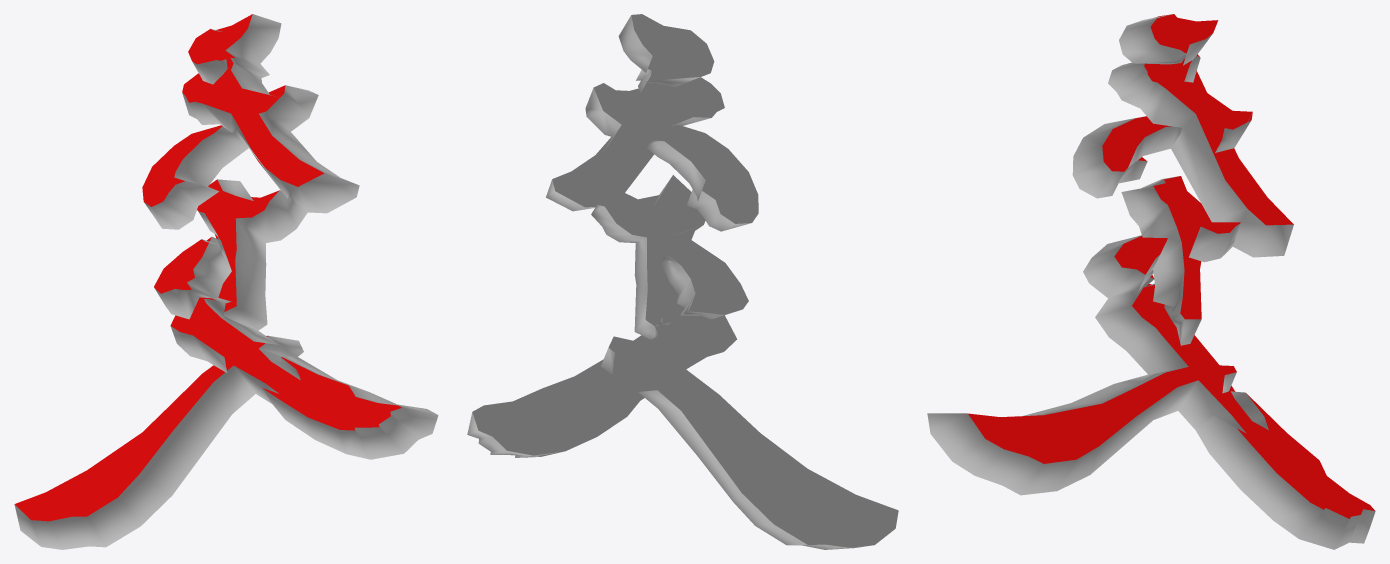
The model's file is ps2_save-icons_tenkabito.glb.
3 renders of one model, left to right at view 1: azimuth 30°, elevation 25°; view 2: azimuth 150°, elevation 25°; view 3: azimuth 330°, elevation 25°, orthographic. The views are drawn at different scales.
Parts seen in each view (by area): view 1: icon1.ico; view 2: icon1.ico; view 3: icon1.ico.
Part boxes in pixels (<box>): icon1.ico: <box>14,14,438,549</box>; icon1.ico: <box>467,14,898,549</box>; icon1.ico: <box>927,14,1375,549</box>.
Bounding box in the file's own units: 2.64 × 2.9 × 0.2249.
1 material, 1 textured.
